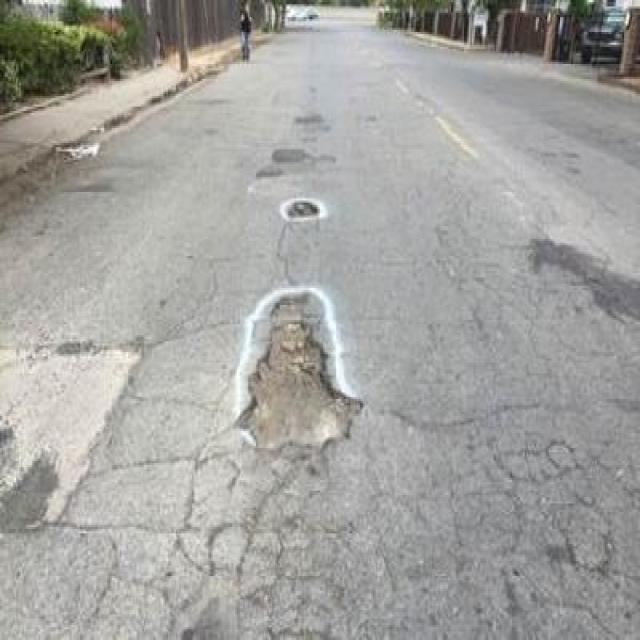Pothole: (235, 290, 358, 452), (283, 194, 320, 220)
